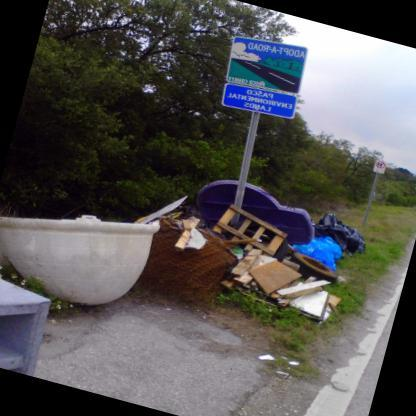Garbage: (309, 216, 366, 256), (308, 234, 352, 274)
